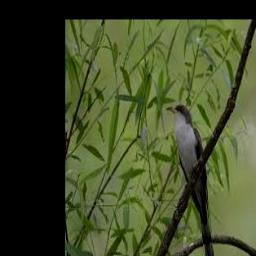Cuckoo: (167, 104, 215, 256)
